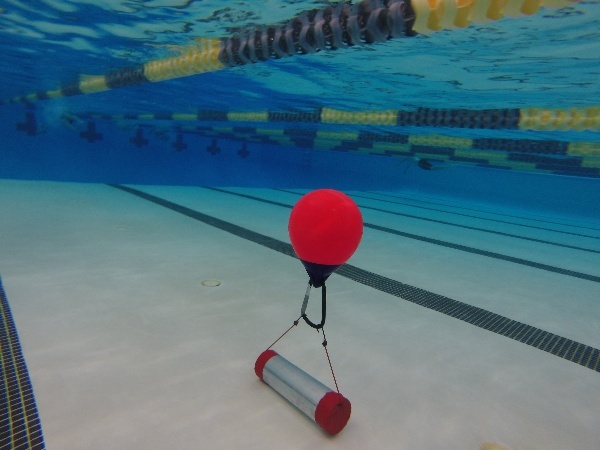buoy_red: (280, 185, 367, 290)
